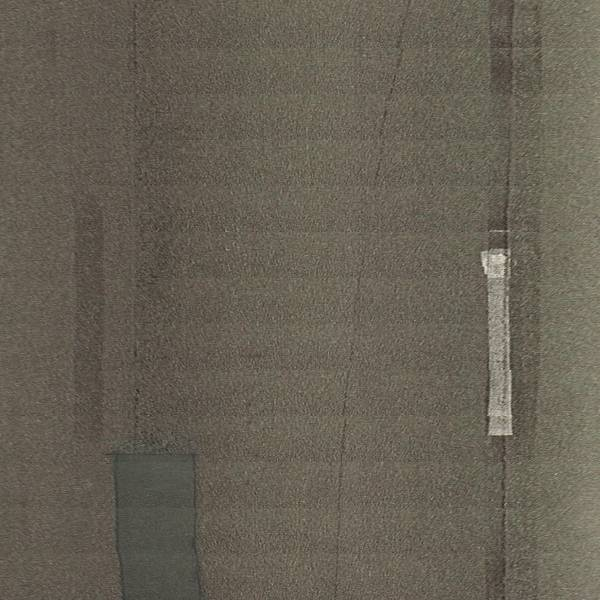road_damage: (107, 445, 214, 600), (122, 207, 174, 417)
